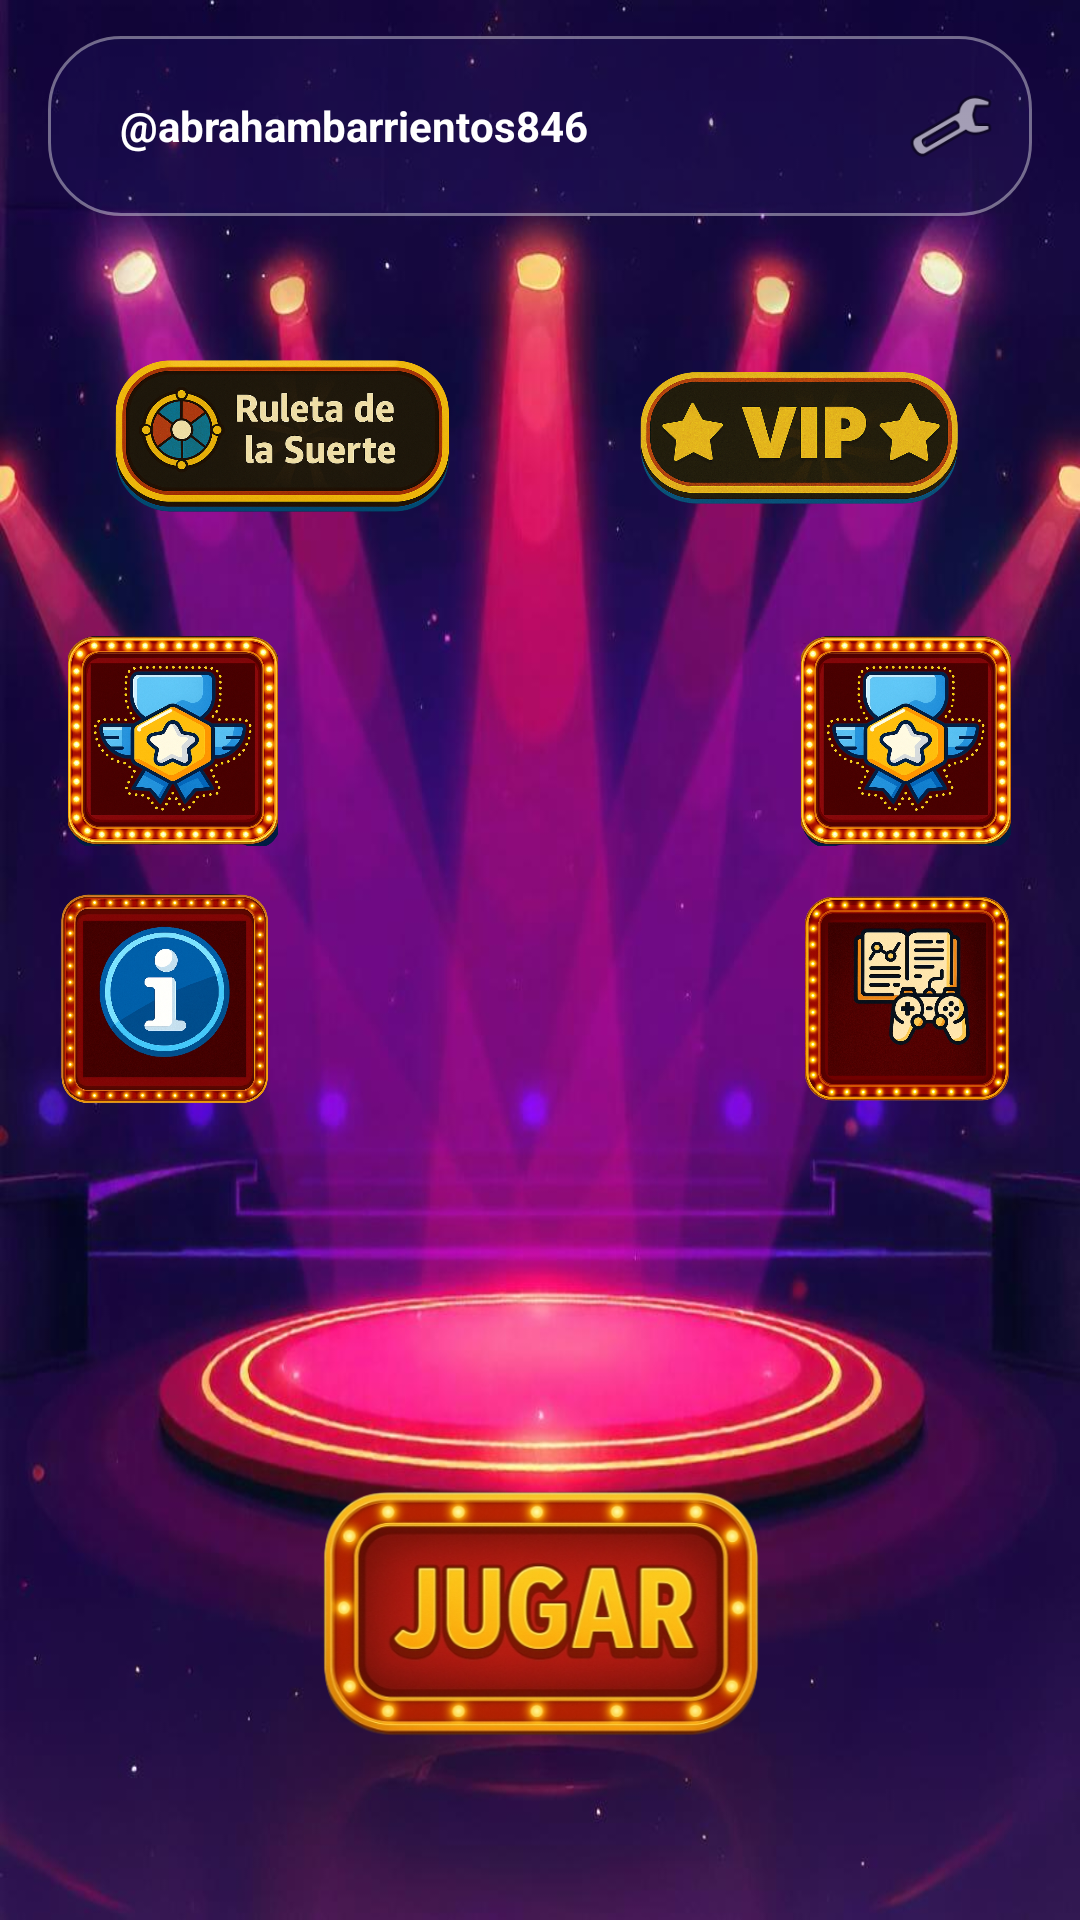

Point at icon controls on the screen. Image size 1080w x 1920h, points as [x,y].
Configuración: [951,126]
